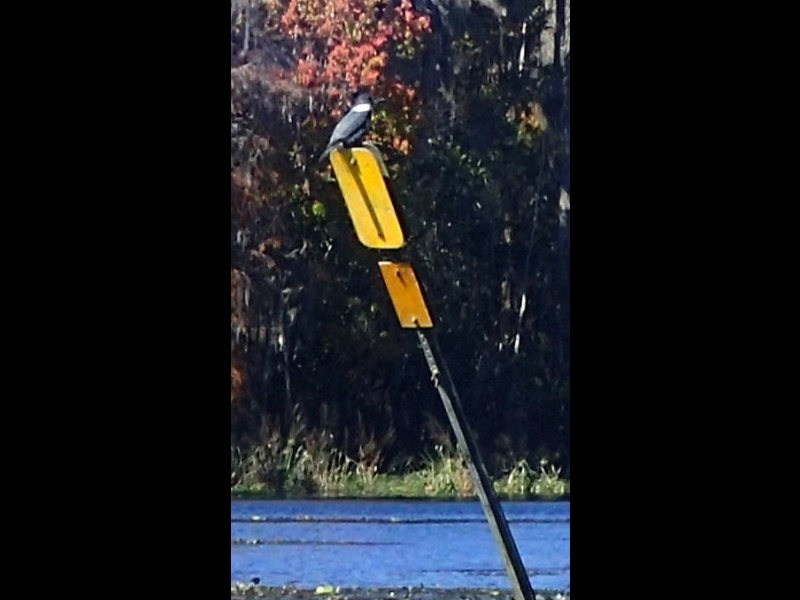kingfisher: (321, 91, 376, 159)
